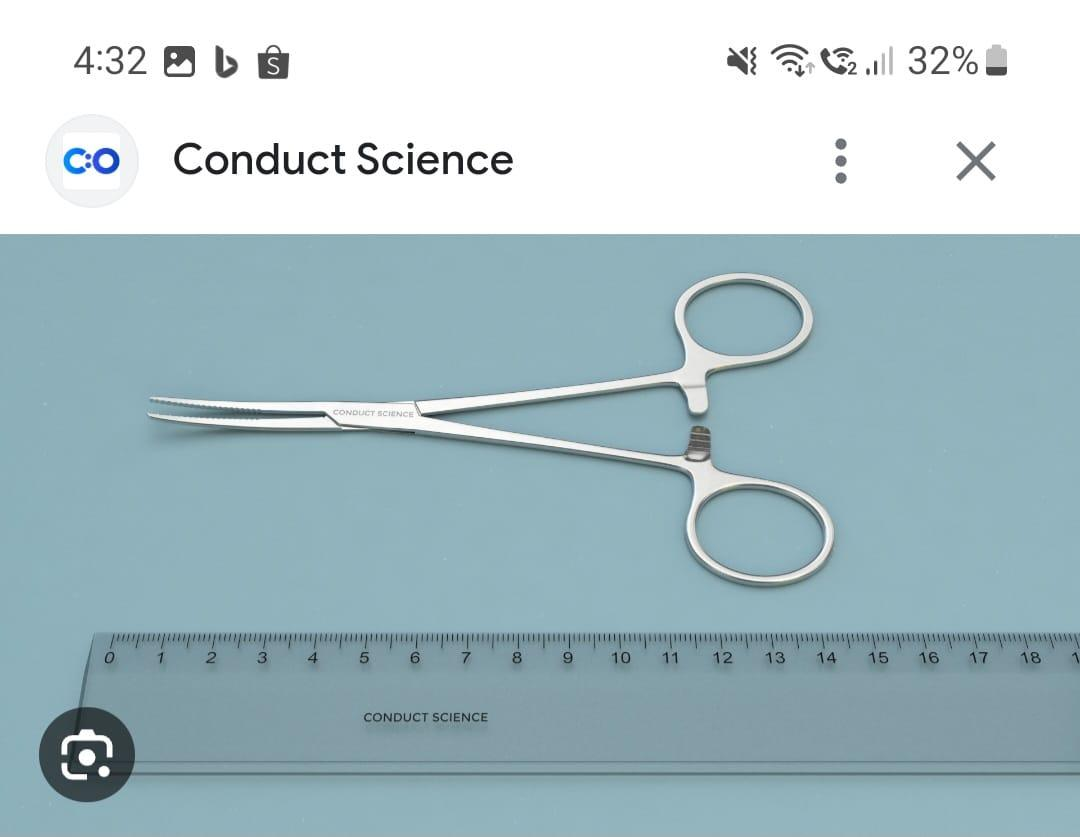Artery Forceps: (148, 265, 856, 598)
